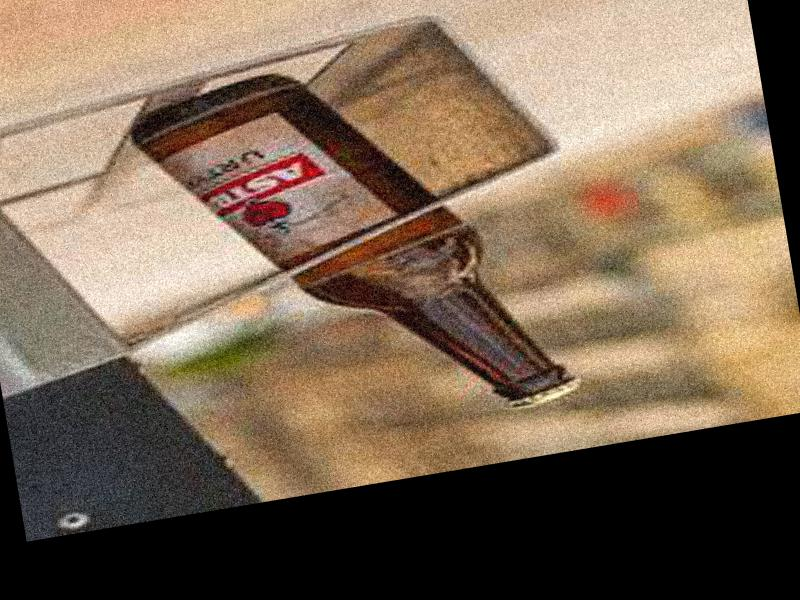Beer: (120, 31, 587, 466)
